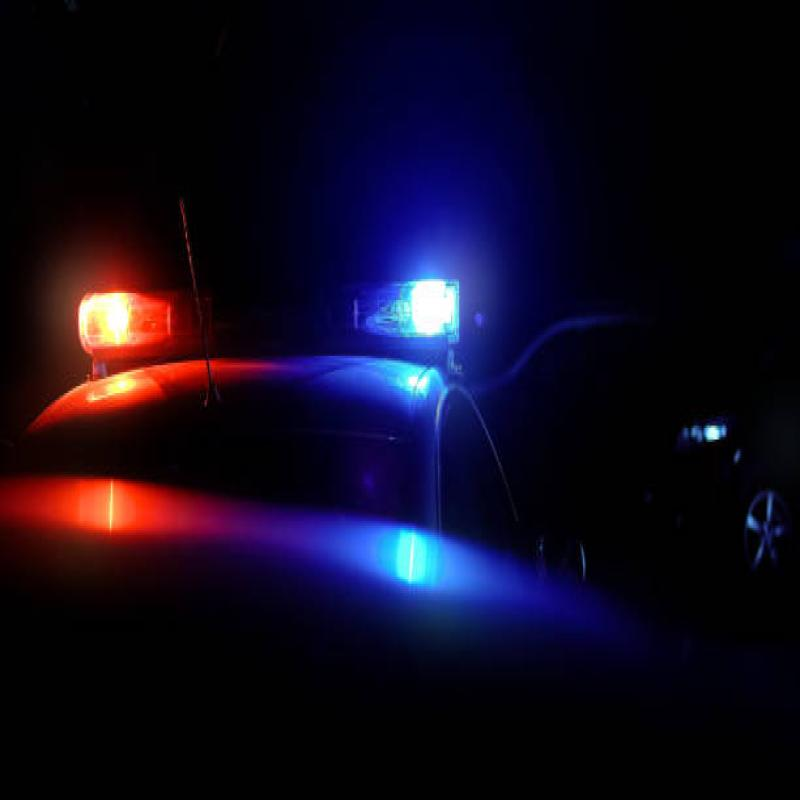AmbulanceSiren: (63, 264, 472, 396)
